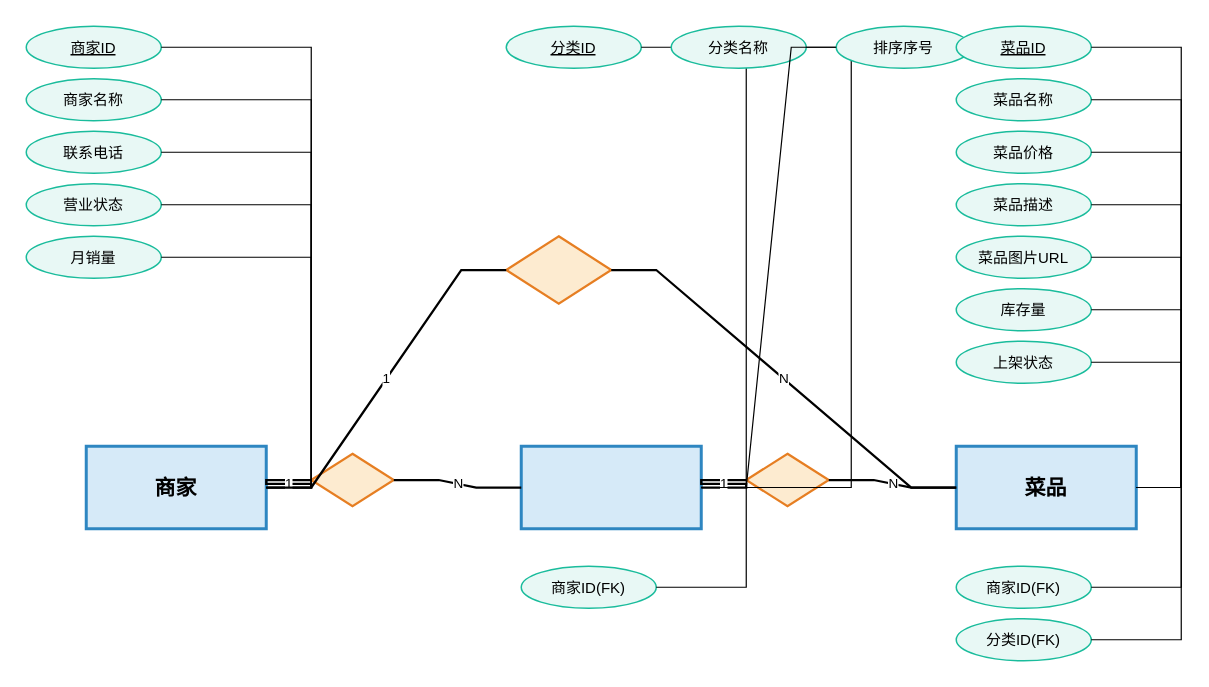
The diagram is 1209 pixels wide and 687 high, and some of its shapes have lost their labels. The centre of each missing label's shape, as x and y in pixels:
包含: pixel 786 479
拥有: pixel 351 479
直接拥有: pixel 558 269
菜品分类: pixel 610 487
